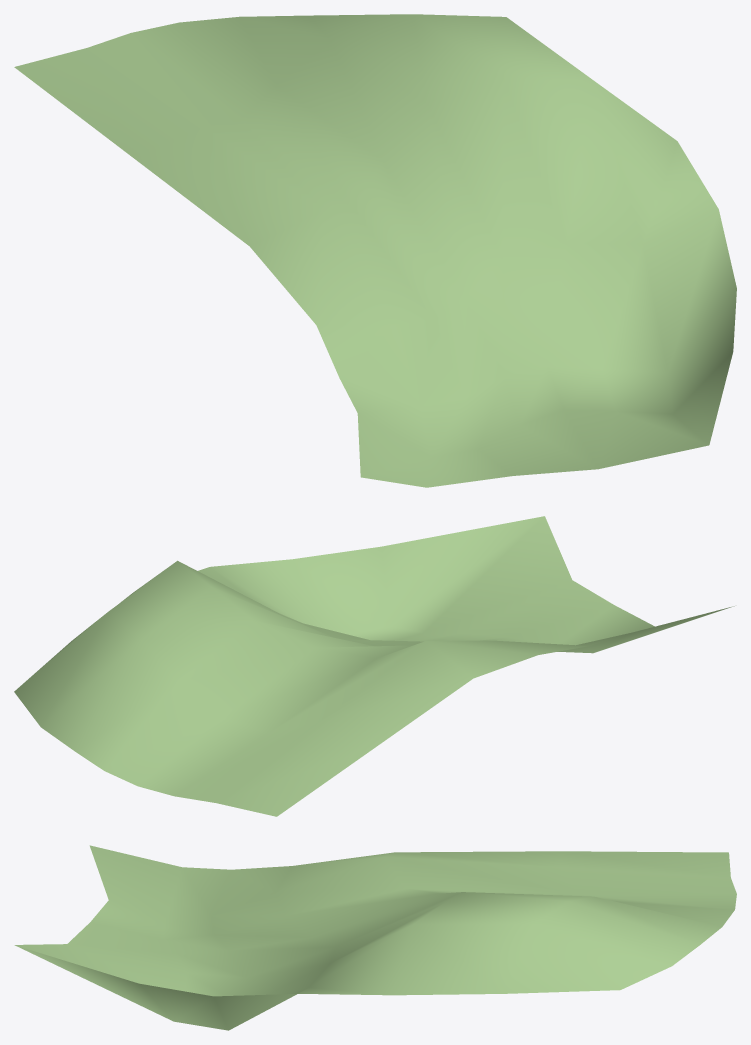
File: level_29.fbx
The picture shows the model from 3 angles, top to bottom: view 1: azimuth 30°, elevation 25°; view 2: azimuth 150°, elevation 25°; view 3: azimuth 270°, elevation 25°; orthographic projection. The views are drawn at different scales.
Parts seen in each view (by area): view 1: loc_029; view 2: loc_029; view 3: loc_029.
Boxes of the visible parts, x1=… form: loc_029: x1=14, y1=14, x2=736, y2=487; loc_029: x1=14, y1=516, x2=734, y2=816; loc_029: x1=14, y1=845, x2=736, y2=1030.
Bounding box in the file's own units: 21.46 × 7.09 × 36.13.
